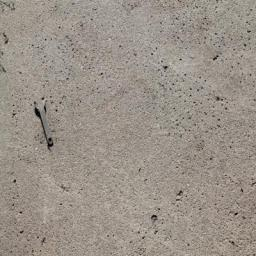FOD: (32, 95, 63, 150)
